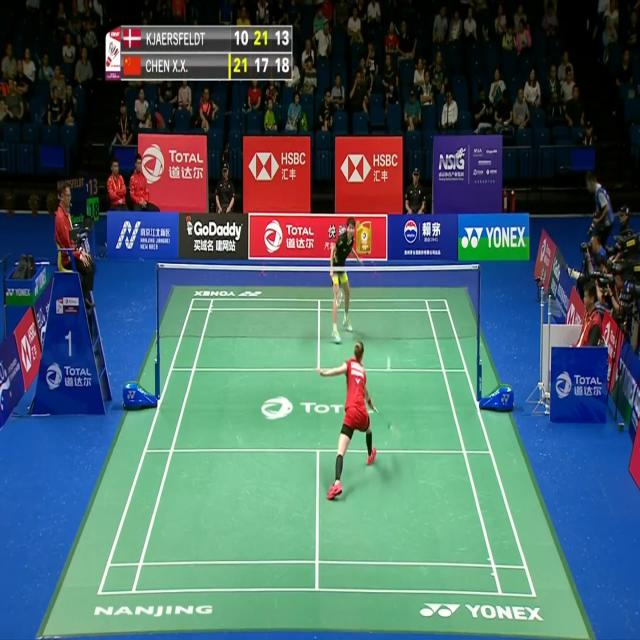Player1: (316, 338, 404, 508)
Player2: (323, 210, 367, 348)
